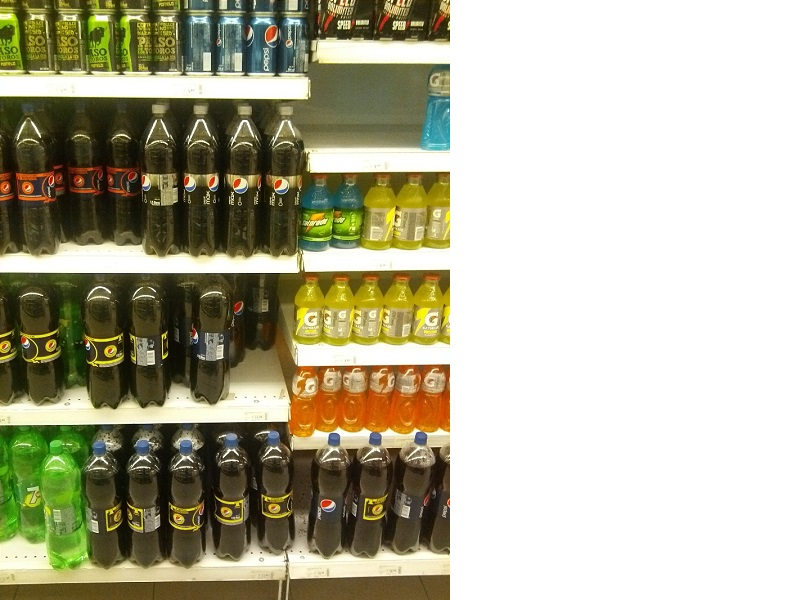lemonade: (132, 98, 195, 263), (10, 99, 71, 262), (217, 97, 269, 270), (76, 269, 137, 412), (33, 435, 95, 574), (178, 98, 228, 263), (119, 436, 173, 575), (160, 437, 214, 572), (78, 438, 132, 570), (204, 430, 254, 570), (264, 103, 306, 268), (304, 426, 354, 561)
